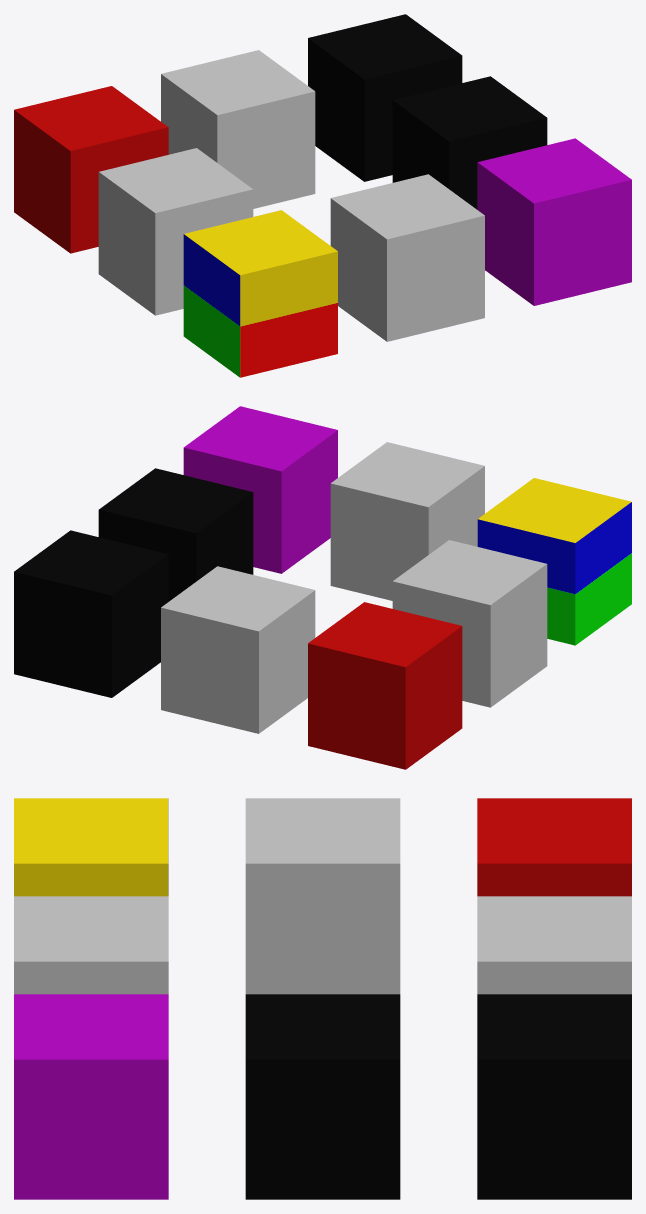
Rendered from shadertest.obj.
The picture shows the model from 3 angles, top to bottom: view 1: azimuth 30°, elevation 25°; view 2: azimuth 150°, elevation 25°; view 3: azimuth 270°, elevation 25°; orthographic projection. The views are drawn at different scales.
Parts seen in each view (by area): view 1: Cube.004_Cube.005, Cube.003_Cube.004, Cube.005_Cube.006, Cube.008_Cube.009, Cube.001_Cube.003, Cube.007_Cube.008, Cube.006_Cube.007, Cube.002; view 2: Cube.007_Cube.008, Cube.006_Cube.007, Cube.008_Cube.009, Cube.005_Cube.006, Cube.001_Cube.003, Cube.004_Cube.005, Cube.003_Cube.004, Cube.002; view 3: Cube.002, Cube.003_Cube.004, Cube.006_Cube.007, Cube.001_Cube.003, Cube.005_Cube.006, Cube.004_Cube.005, Cube.008_Cube.009, Cube.007_Cube.008.
Part boxes in pixels (x1=…): Cube.004_Cube.005: x1=183, y1=210, x2=337, y2=377; Cube.003_Cube.004: x1=477, y1=138, x2=631, y2=305; Cube.005_Cube.006: x1=330, y1=174, x2=484, y2=341; Cube.008_Cube.009: x1=161, y1=50, x2=315, y2=208; Cube.001_Cube.003: x1=98, y1=148, x2=253, y2=315; Cube.007_Cube.008: x1=14, y1=86, x2=168, y2=253; Cube.006_Cube.007: x1=308, y1=14, x2=462, y2=181; Cube.002: x1=392, y1=76, x2=547, y2=209; Cube.007_Cube.008: x1=308, y1=602, x2=462, y2=769; Cube.006_Cube.007: x1=14, y1=530, x2=168, y2=697; Cube.008_Cube.009: x1=161, y1=566, x2=315, y2=733; Cube.005_Cube.006: x1=330, y1=442, x2=484, y2=600; Cube.001_Cube.003: x1=392, y1=540, x2=547, y2=707; Cube.004_Cube.005: x1=477, y1=478, x2=631, y2=645; Cube.003_Cube.004: x1=183, y1=406, x2=337, y2=573; Cube.002: x1=98, y1=468, x2=253, y2=601; Cube.002: x1=245, y1=994, x2=400, y2=1199; Cube.003_Cube.004: x1=14, y1=994, x2=168, y2=1199; Cube.006_Cube.007: x1=477, y1=994, x2=631, y2=1199; Cube.001_Cube.003: x1=245, y1=798, x2=400, y2=994; Cube.005_Cube.006: x1=14, y1=896, x2=168, y2=994; Cube.004_Cube.005: x1=14, y1=798, x2=168, y2=896; Cube.008_Cube.009: x1=477, y1=896, x2=631, y2=994; Cube.007_Cube.008: x1=477, y1=798, x2=631, y2=896.
Bounding box in the file's own units: 8 × 2 × 8.
